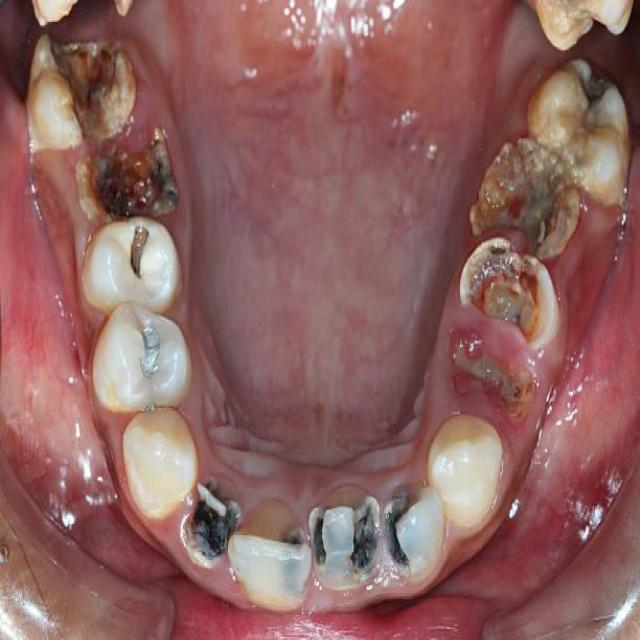caries: (31, 32, 142, 149), (472, 134, 576, 256), (77, 119, 182, 228), (466, 238, 552, 339), (304, 483, 382, 591), (448, 329, 534, 425), (178, 462, 237, 570), (564, 55, 628, 146), (380, 476, 434, 579), (126, 313, 171, 394), (114, 222, 166, 292), (266, 518, 308, 600)
